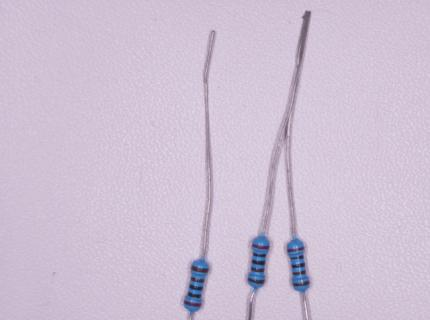Black band: (189, 284, 204, 290), (188, 292, 202, 298), (290, 254, 304, 260), (252, 260, 266, 265), (292, 263, 305, 268), (253, 253, 266, 257)
Brown band: (192, 265, 209, 274), (248, 277, 264, 284), (191, 276, 205, 283), (292, 281, 309, 286), (251, 266, 265, 272), (293, 270, 306, 275)
Red band: (184, 300, 202, 307), (253, 244, 269, 250), (287, 247, 305, 252)
